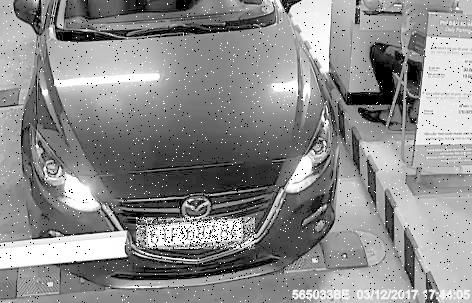License-plate: (138, 218, 258, 250)
